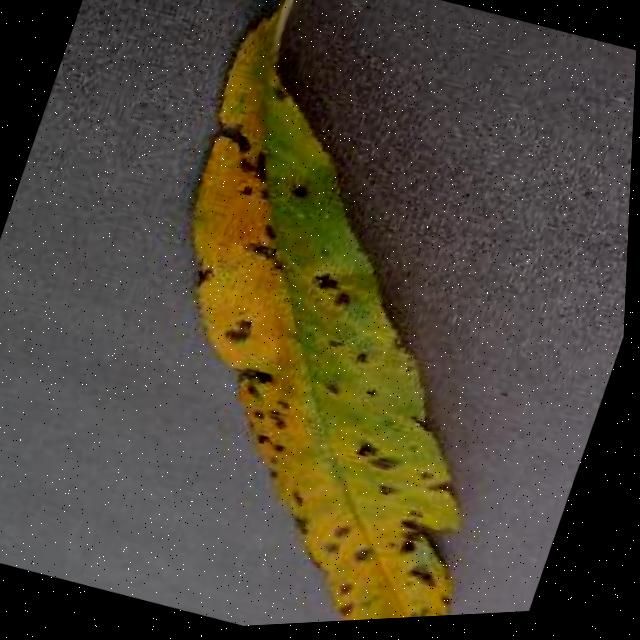Bacterial_spot: (36, 0, 640, 637)
